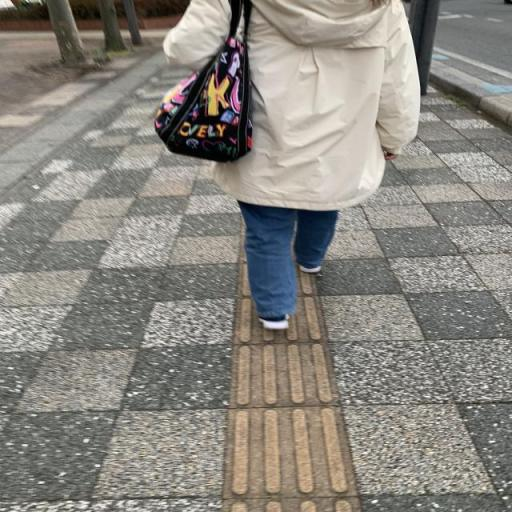line: (221, 405, 360, 500), (228, 343, 342, 411)
